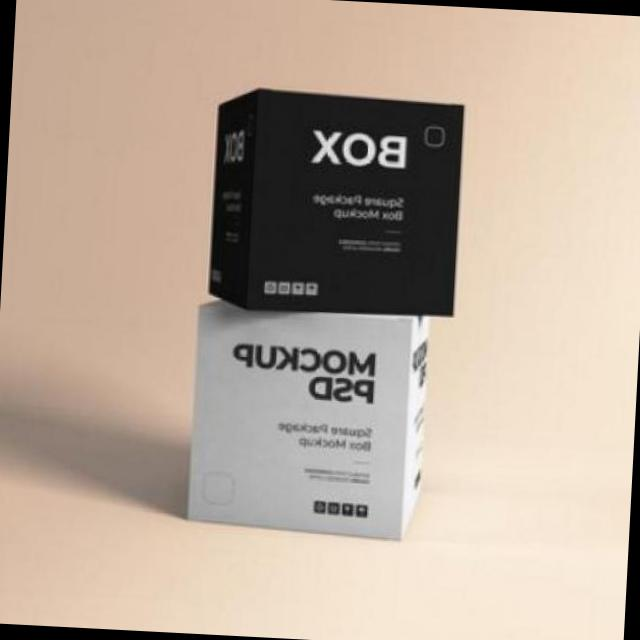box: (163, 276, 441, 552), (192, 80, 475, 338)
